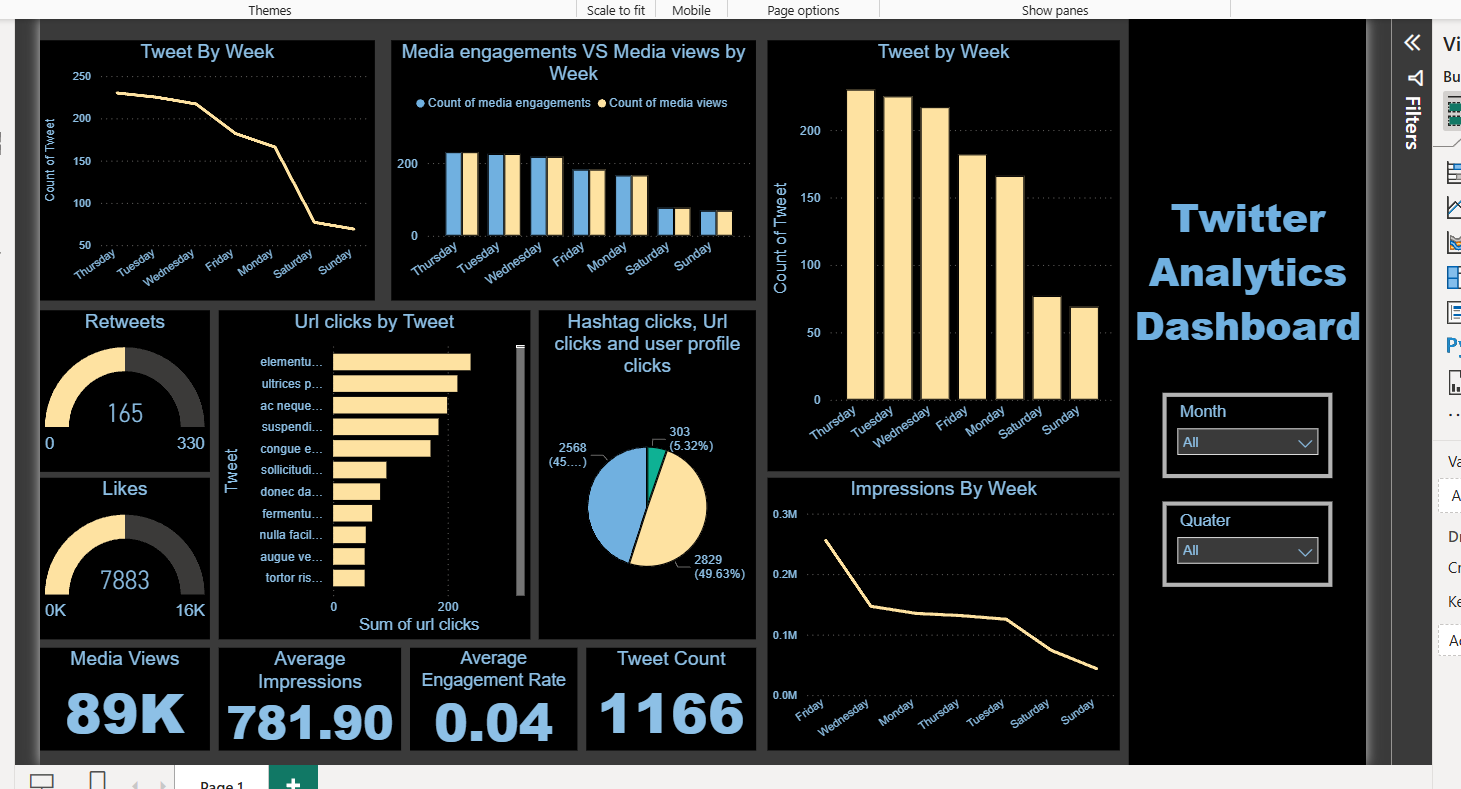

The dashboard page shown, as its layout file describes it:
{"tool":"powerbi","page":{"name":"Page 1","canvas":[1280,720],"ordinal":0},"visuals":[{"type":"textbox","box":[1050.4,0,229.9,720.2],"z":0},{"type":"card","title":"Media Views","fields":{"Values":["Sum(SocialMedia (1).media views)"]},"box":[0,606.8,164.1,98.9],"z":1000},{"type":"card","title":"Average Impressions","fields":{"Values":["Avg(SocialMedia (1).impressions)"]},"box":[172.5,606.8,176.1,98.9],"z":2000},{"type":"card","title":"Average Engagement Rate","fields":{"Values":["Avg(SocialMedia (1).engagement rate)"]},"box":[357.1,606.8,161.7,98.9],"z":3000},{"type":"card","title":"Tweet Count","fields":{"Values":["CountNonNull(SocialMedia (1).Tweet)"]},"box":[527.2,606.8,164.1,98.9],"z":4000},{"type":"gauge","title":"Likes","fields":{"Y":["Sum(SocialMedia (1).likes)"]},"box":[0,442.8,164.1,155.6],"z":5000},{"type":"gauge","title":"Retweets","fields":{"Y":["Max(SocialMedia (1).retweets)"]},"box":[0,281.1,164.1,155.6],"z":6000},{"type":"slicer","fields":{"Values":["SocialMedia (1).MonthName"]},"box":[1083.4,360.7,164.1,82],"z":7000},{"type":"lineChart","title":"Tweet By Week","fields":{"Category":["SocialMedia (1).DayOFweek"],"Y":["CountNonNull(SocialMedia (1).Tweet)"]},"box":[0,20.5,323.3,250.9],"z":8000},{"type":"lineChart","title":"Impressions By Week","fields":{"Category":["SocialMedia (1).DayOFweek"],"Y":["Sum(SocialMedia (1).impressions)"]},"box":[702.1,442.8,340.2,263],"z":9000},{"type":"clusteredBarChart","title":"Url clicks by Tweet","fields":{"Category":["SocialMedia (1).Tweet"],"Y":["Sum(SocialMedia (1).url clicks)"]},"box":[172.5,281.1,300.4,317.3],"z":10000},{"type":"pieChart","title":"Hashtag clicks, Url clicks and user profile clicks","fields":{"Y":["Sum(SocialMedia (1).hashtag clicks)","Sum(SocialMedia (1).url clicks)","Sum(SocialMedia (1).user profile clicks)"]},"box":[481.4,281.1,209.9,317.3],"z":11000},{"type":"clusteredColumnChart","title":"Media engagements VS Media views by Week","fields":{"Category":["SocialMedia (1).DayOFweek"],"Y":["CountNonNull(SocialMedia (1).media engagements)","CountNonNull(SocialMedia (1).media views)"]},"box":[339,20.5,352.3,250.9],"z":12000},{"type":"clusteredColumnChart","title":"Tweet by Week","fields":{"Category":["SocialMedia (1).DayOFweek"],"Y":["CountNonNull(SocialMedia (1).Tweet)"]},"box":[702.1,20.5,340.2,416.2],"z":13000},{"type":"slicer","fields":{"Values":["SocialMedia (1).Quater"]},"box":[1083.4,465.7,164.1,82],"z":14000}]}

Visuals, with their boxes on the page's 1280x720 design canvas (x1, y1, x2, y2). These are canvas units, not pixel positions in the 1461x789 screenshot, which may show the page scaled, cropped or inside an application window:
textbox: {"x1": 1050, "y1": 0, "x2": 1280, "y2": 720}
"Media Views" card: {"x1": 0, "y1": 607, "x2": 164, "y2": 706}
"Average Impressions" card: {"x1": 172, "y1": 607, "x2": 349, "y2": 706}
"Average Engagement Rate" card: {"x1": 357, "y1": 607, "x2": 519, "y2": 706}
"Tweet Count" card: {"x1": 527, "y1": 607, "x2": 691, "y2": 706}
"Likes" gauge: {"x1": 0, "y1": 443, "x2": 164, "y2": 598}
"Retweets" gauge: {"x1": 0, "y1": 281, "x2": 164, "y2": 437}
slicer - SocialMedia (1).MonthName: {"x1": 1083, "y1": 361, "x2": 1248, "y2": 443}
"Tweet By Week" lineChart: {"x1": 0, "y1": 20, "x2": 323, "y2": 271}
"Impressions By Week" lineChart: {"x1": 702, "y1": 443, "x2": 1042, "y2": 706}
"Url clicks by Tweet" clusteredBarChart: {"x1": 172, "y1": 281, "x2": 473, "y2": 598}
"Hashtag clicks, Url clicks and user profile clicks" pieChart: {"x1": 481, "y1": 281, "x2": 691, "y2": 598}
"Media engagements VS Media views by Week" clusteredColumnChart: {"x1": 339, "y1": 20, "x2": 691, "y2": 271}
"Tweet by Week" clusteredColumnChart: {"x1": 702, "y1": 20, "x2": 1042, "y2": 437}
slicer - SocialMedia (1).Quater: {"x1": 1083, "y1": 466, "x2": 1248, "y2": 548}
